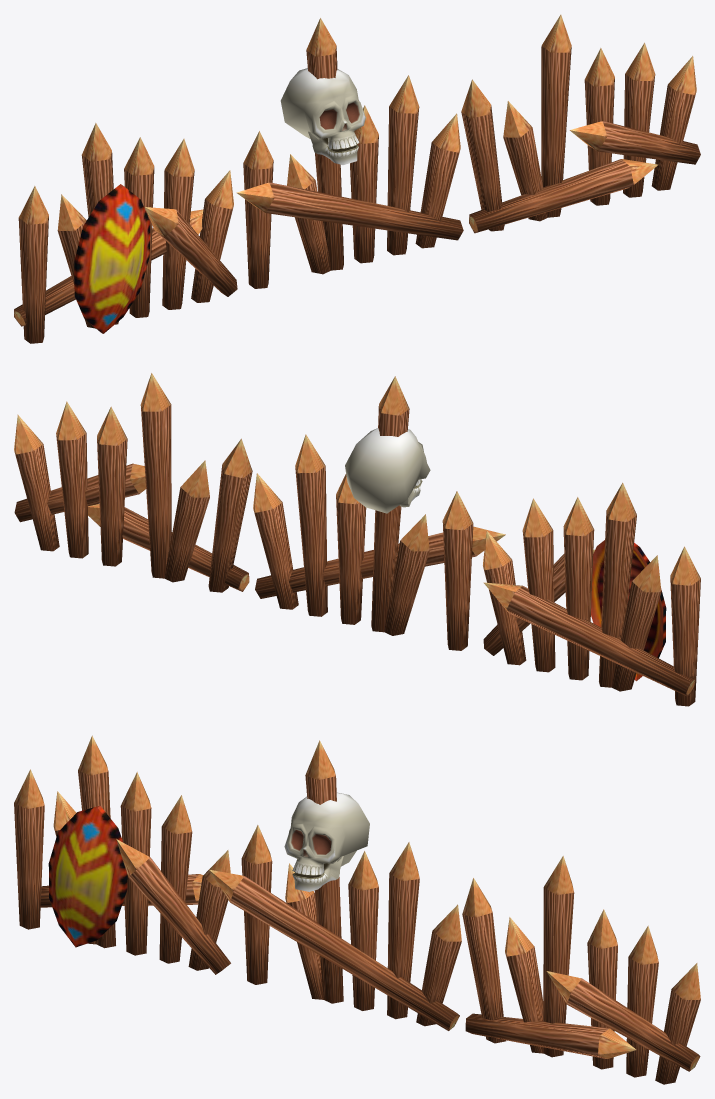
File: Object_Fence.FBX
3 views of the same model, one above another, from view 1: azimuth 30°, elevation 25°; view 2: azimuth 150°, elevation 25°; view 3: azimuth 330°, elevation 25° (orthographic).
Visible parts, largest first — view 1: fence1, fence2, fence3; view 2: fence1, fence2, fence3; view 3: fence1, fence2, fence3.
Boxes of the visible parts, x1,y1,x2,y2 form: fence1: [236, 18, 463, 288]; fence2: [14, 123, 237, 343]; fence3: [461, 14, 700, 233]; fence1: [253, 376, 505, 650]; fence2: [483, 482, 700, 706]; fence3: [14, 373, 252, 592]; fence1: [209, 740, 461, 1030]; fence2: [14, 735, 230, 974]; fence3: [462, 856, 700, 1084].
Bounding box in the file's own units: 177 × 63.12 × 20.9.
